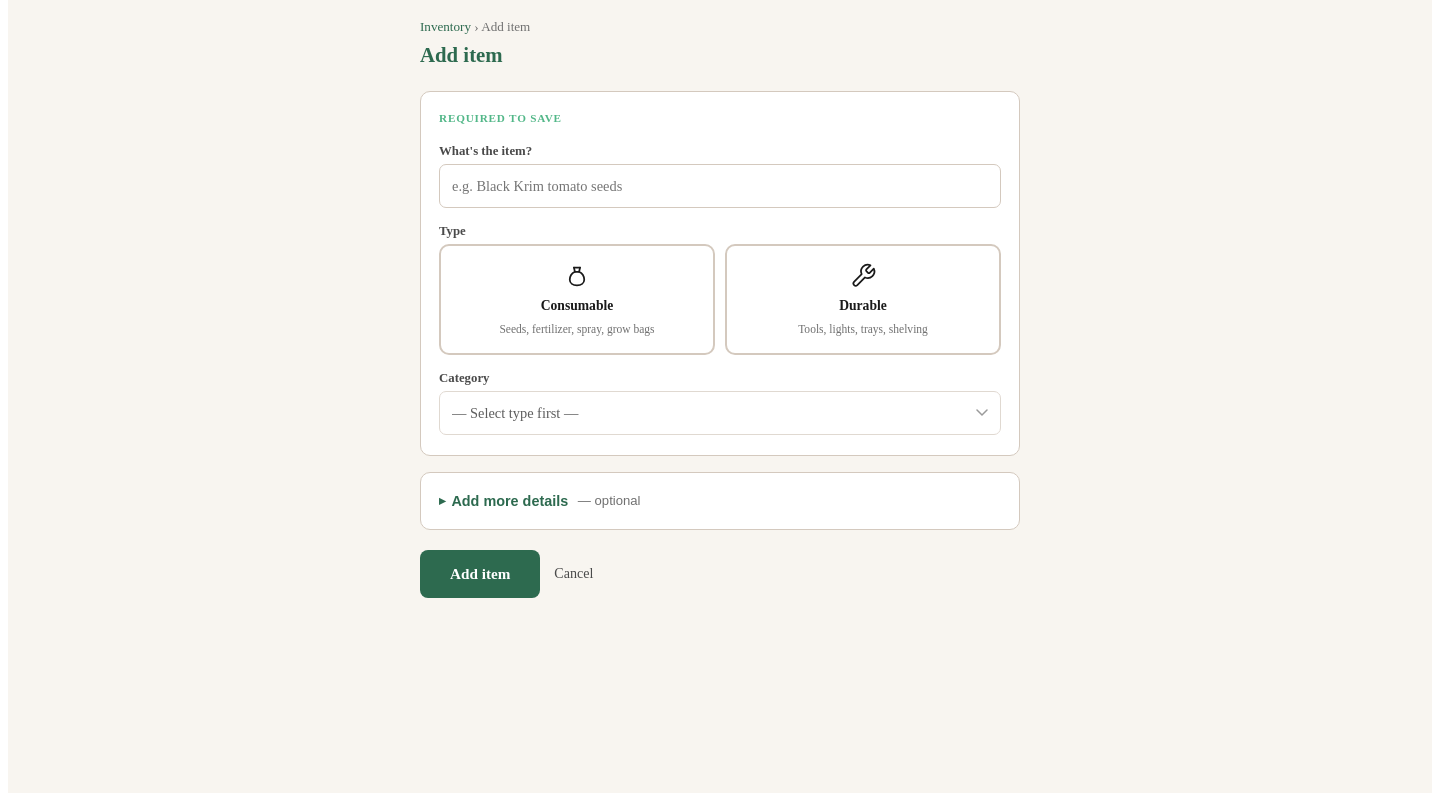
Test: /inventory/add — the three provenance fields › renders the picker inline, and KEEPS the free text relabelled as the order/lot reference
This screenshot has width=1440, height=793.
Type "Hori hori knife" into the field with placeholder "e.g. Black Krim tomato seeds".
click(720, 186); type("Hori hori knife")  # box [439,164,1001,208]
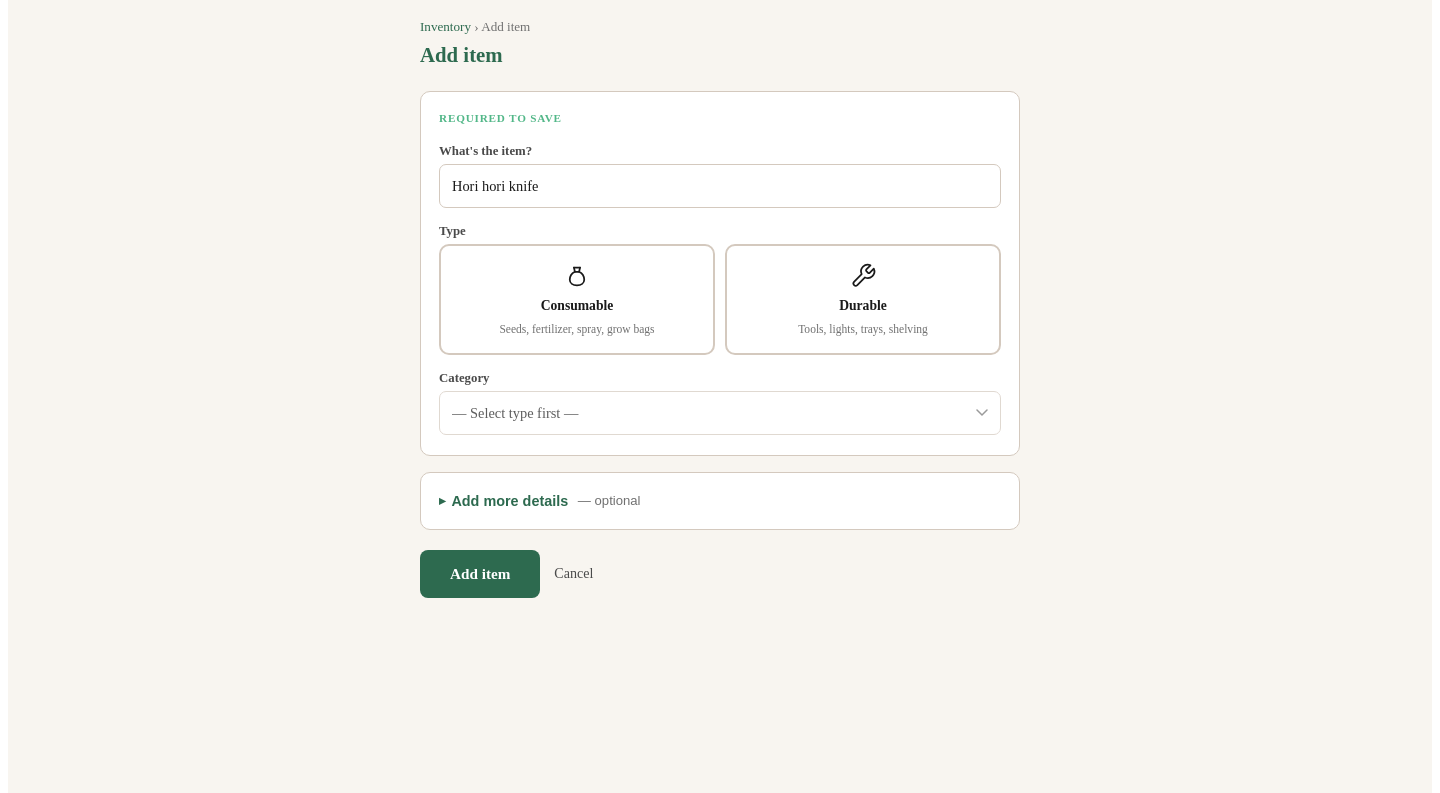
Click the radio button labelled "Durable Tools, lights, trays, shelving".
click(863, 300)  # box [725,244,1001,355]
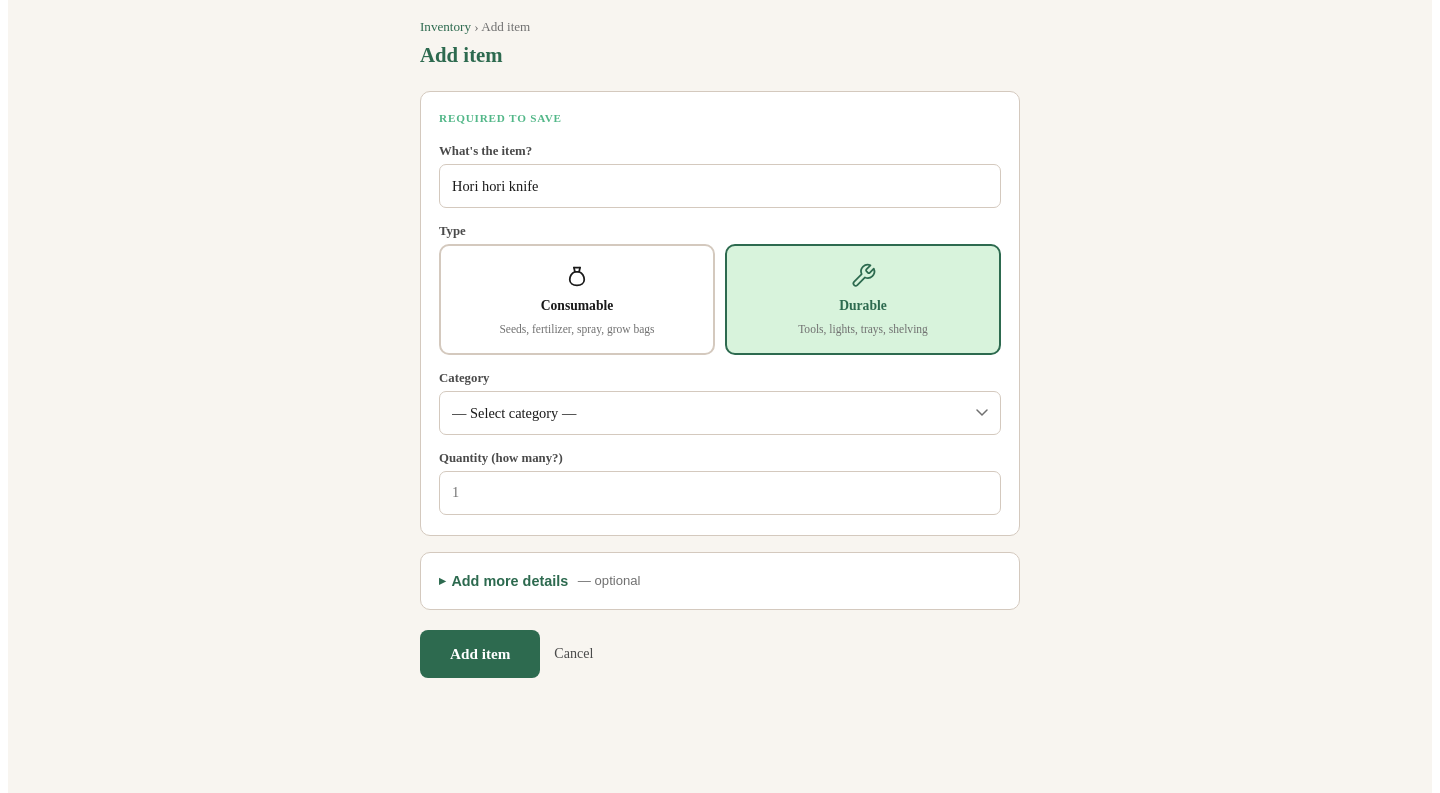
Select "Tools" in the dropdown labelled "Category" at (720, 413), box [439,391,1001,435]
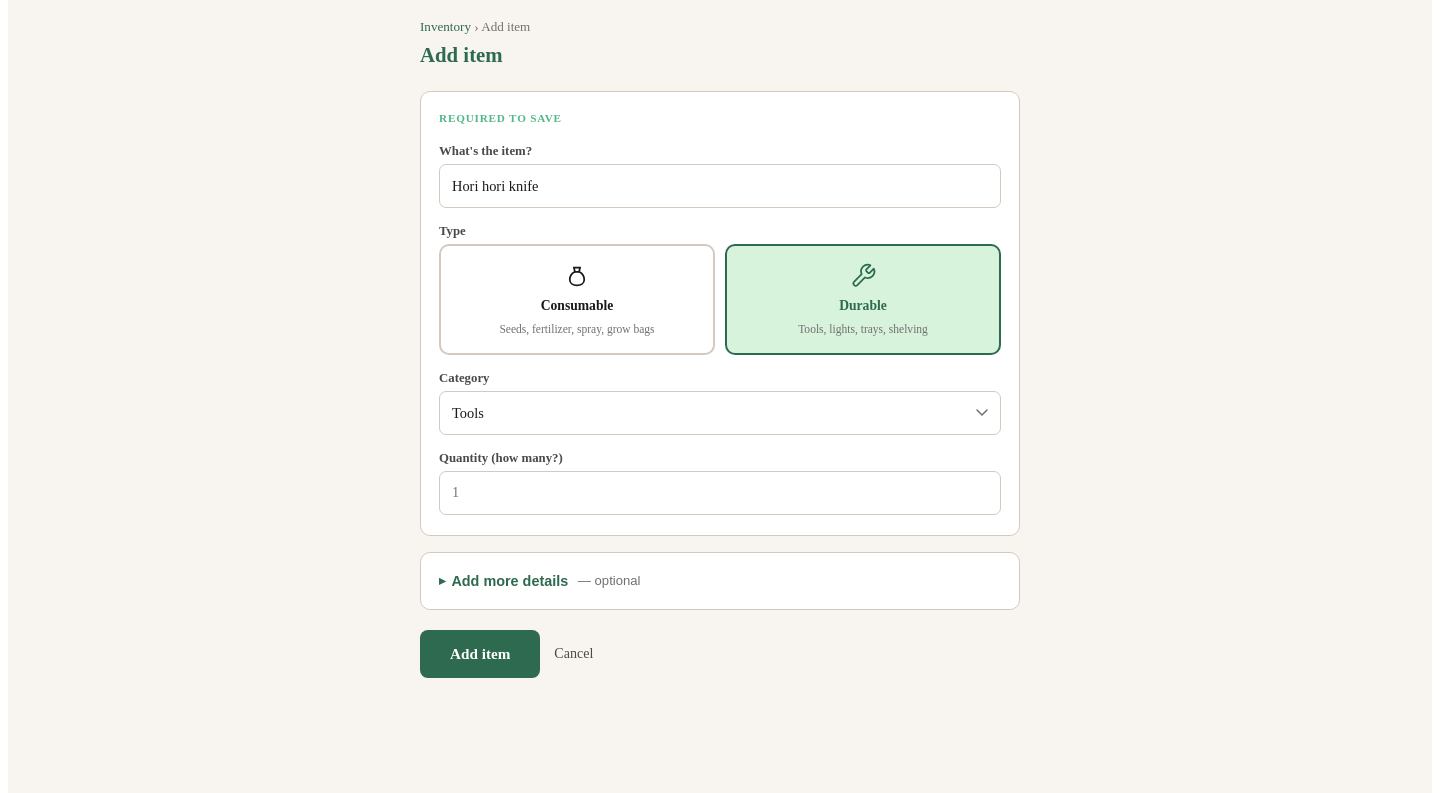
Type "2" into the number field with placeholder "1".
click(720, 493); type("2")  # box [439,471,1001,515]
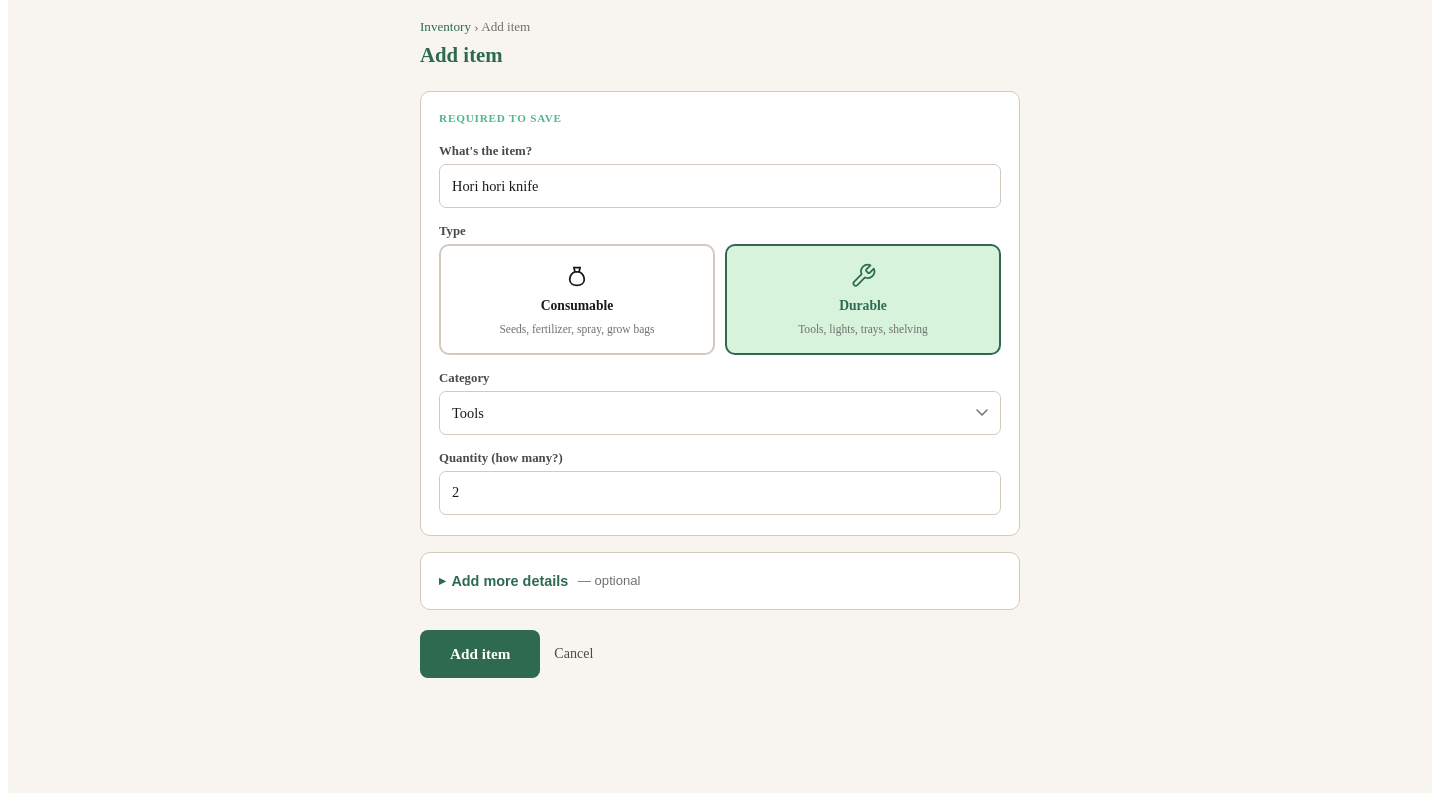
Click the button "▸ Add more details — optional".
click(510, 581)  # box [439,573,1001,589]
(page scrolled)
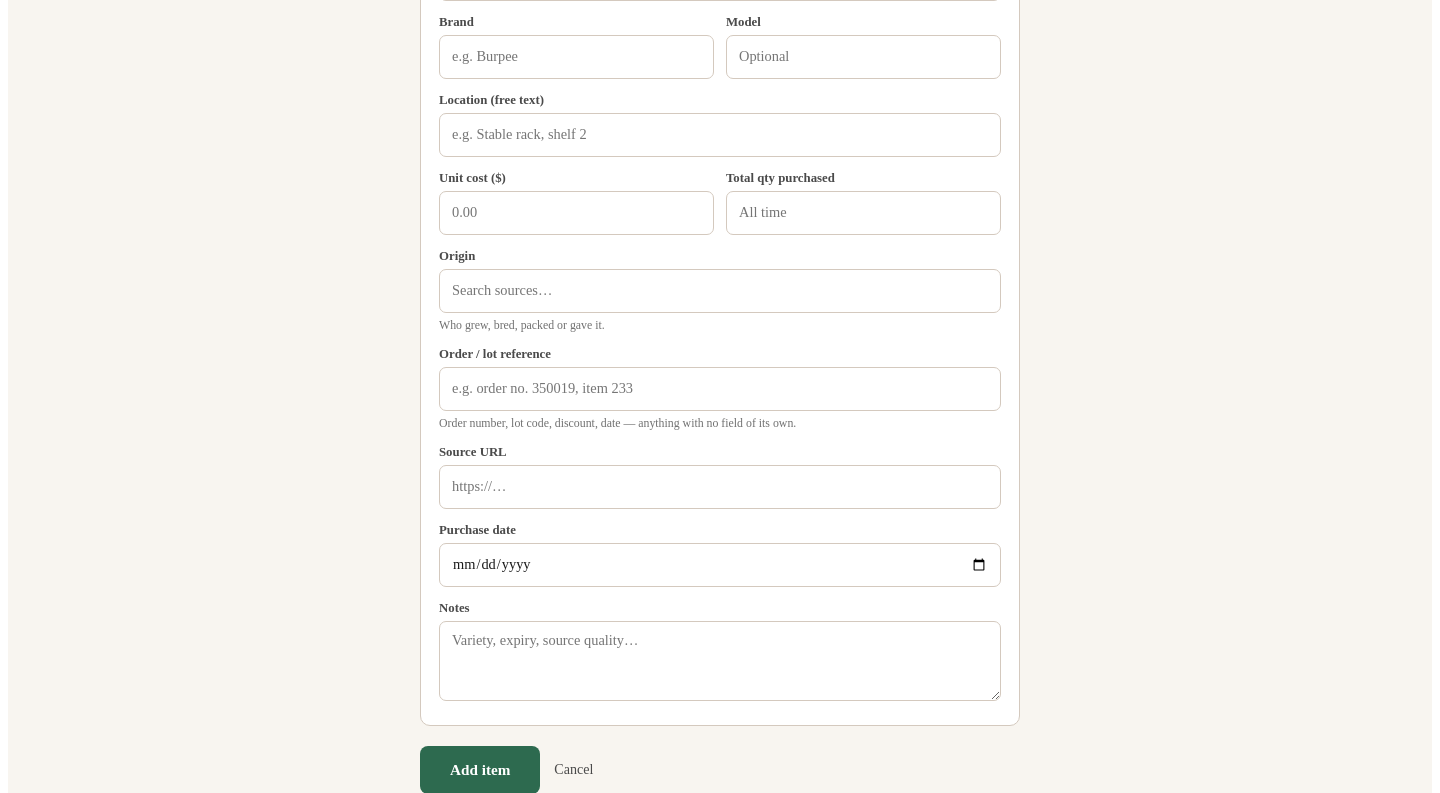
Result: the dropdown with test id "inv-add-origin" is shown at [439,269,1001,313]
Result: the field with placeholder "e.g. order no. 350019, item 233" is empty at [439,367,1001,411]
